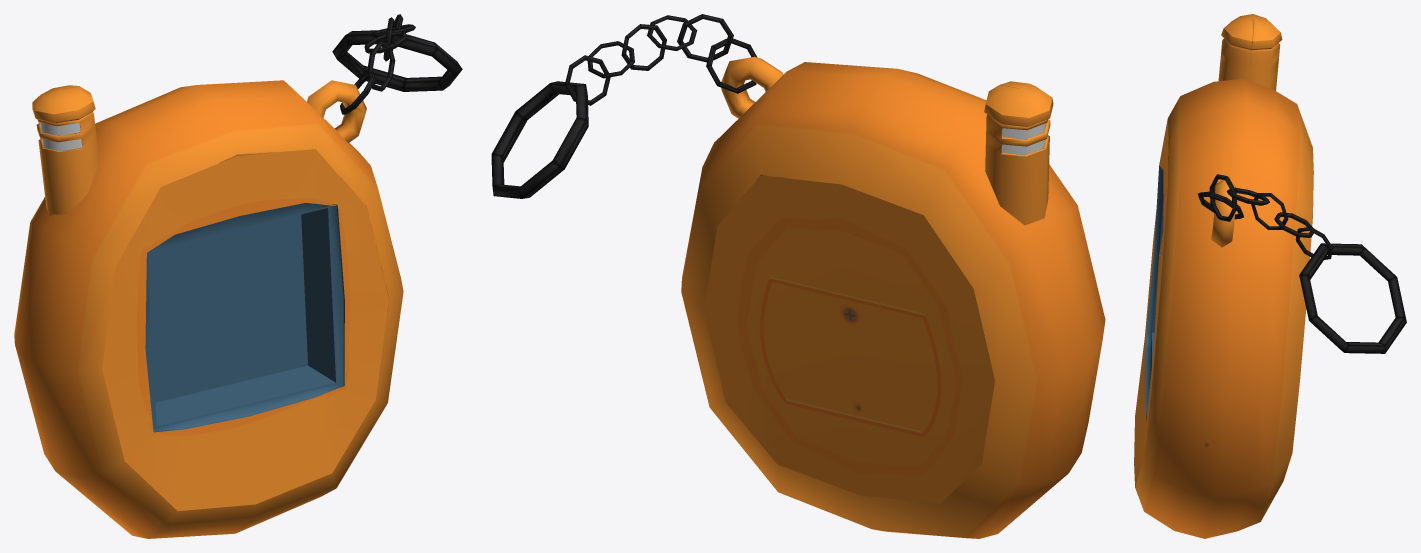
Rendered from body.glb.
The picture shows the model from 3 angles, left to right: view 1: azimuth 30°, elevation 25°; view 2: azimuth 150°, elevation 25°; view 3: azimuth 270°, elevation 25°; orthographic projection. The views are drawn at different scales.
Parts seen in each view (by area): view 1: Osidinum_Tama; view 2: Osidinum_Tama; view 3: Osidinum_Tama.
Part boxes in pixels (left/top/right/bottom): Osidinum_Tama: left=14, top=14, right=462, bottom=538; Osidinum_Tama: left=491, top=14, right=1105, bottom=538; Osidinum_Tama: left=1134, top=14, right=1406, bottom=538.
Size of the model in its own units: 0.1567 by 0.1394 by 0.0795.
1 material, 1 textured.
